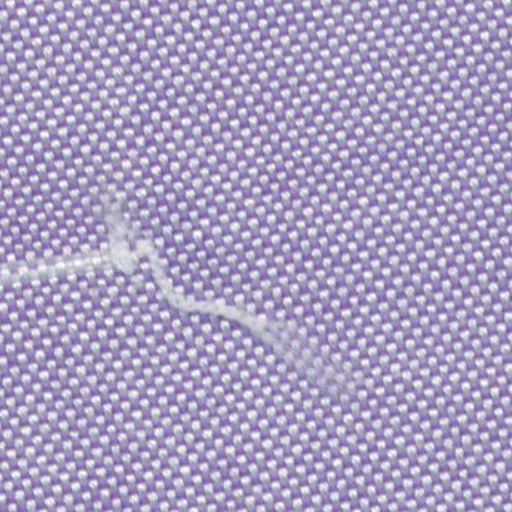DuanSha: (84, 190, 344, 400)
